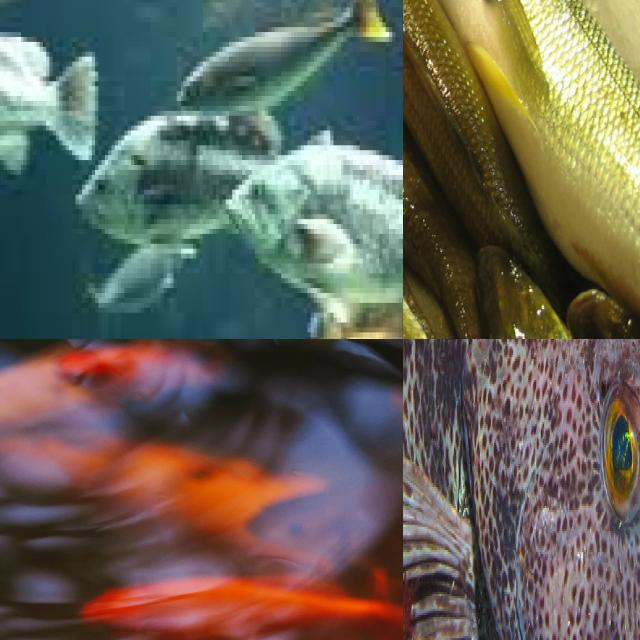fish: (0, 0, 403, 339), (403, 339, 640, 640), (403, 0, 501, 339), (0, 526, 190, 640)
